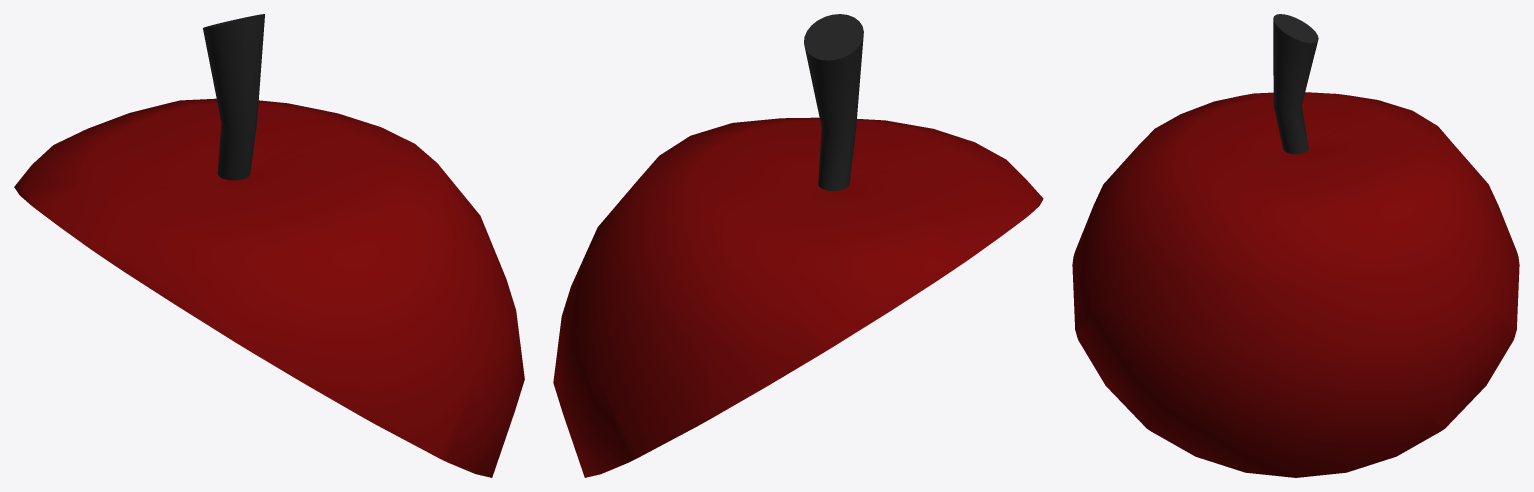
File: apple1.fbx
3 views of the same model, side by side, from view 1: azimuth 30°, elevation 25°; view 2: azimuth 150°, elevation 25°; view 3: azimuth 270°, elevation 25° (orthographic). The views are drawn at different scales.
Parts seen in each view (by area): view 1: apple1; view 2: apple1; view 3: apple1.
Part boxes in pixels (<box>): apple1: <box>14,14,524,477</box>; apple1: <box>553,14,1043,477</box>; apple1: <box>1072,14,1519,477</box>.
Bounding box in the file's own units: 23.94 × 25.77 × 27.66.
